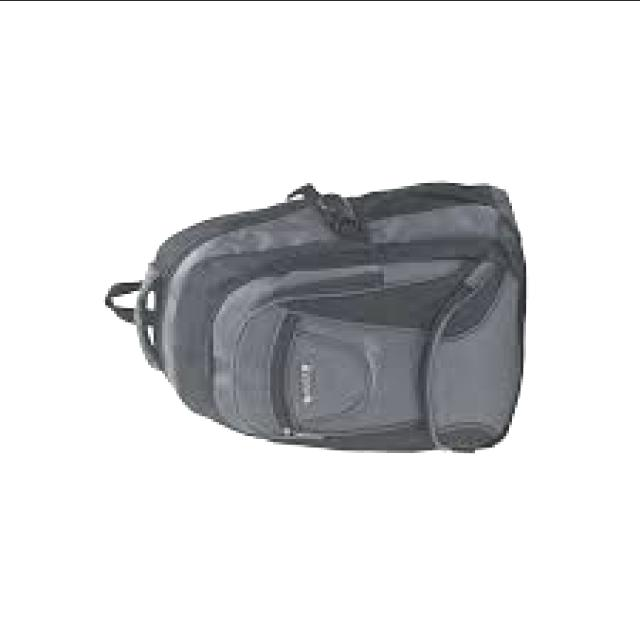backpack: (104, 183, 528, 456)
